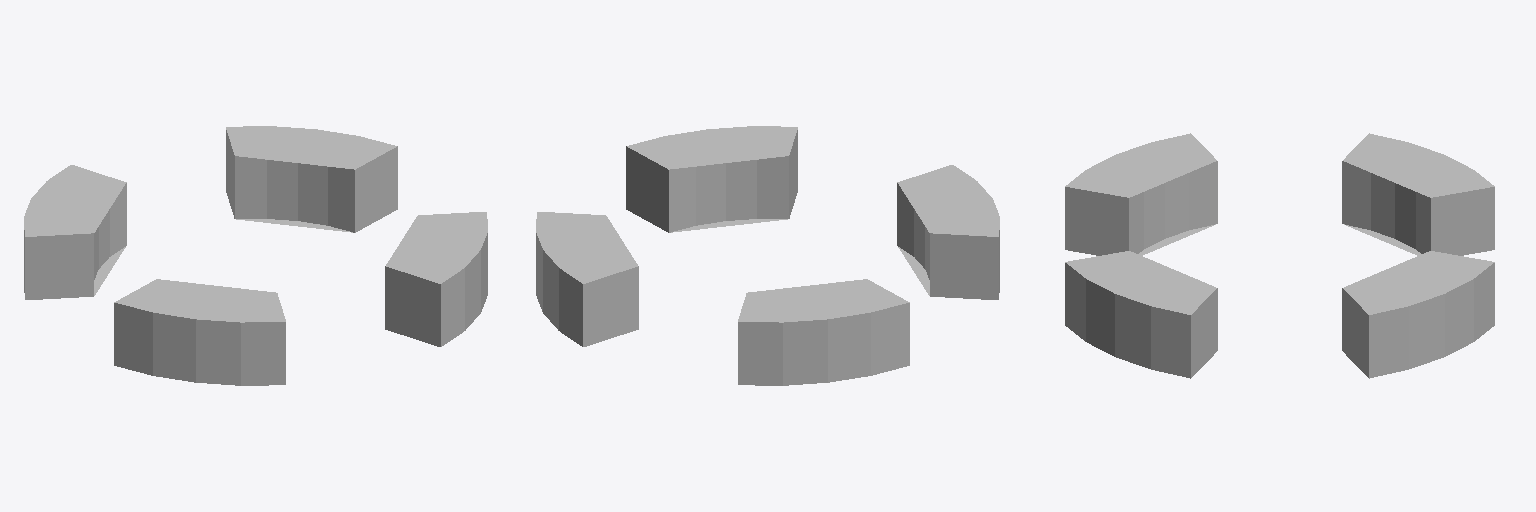
File: Target.obj
3 views of the same model, side by side, from view 1: azimuth 30°, elevation 25°; view 2: azimuth 150°, elevation 25°; view 3: azimuth 270°, elevation 25° (orthographic).
Visible parts, largest first — view 1: Cylinder; view 2: Cylinder; view 3: Cylinder.
Boxes of the visible parts, x1=… form: Cylinder: x1=24, y1=126, x2=487, y2=385; Cylinder: x1=536, y1=126, x2=999, y2=385; Cylinder: x1=1065, y1=133, x2=1494, y2=378.
Size of the model in its own units: 1.85 by 0.3 by 1.85.